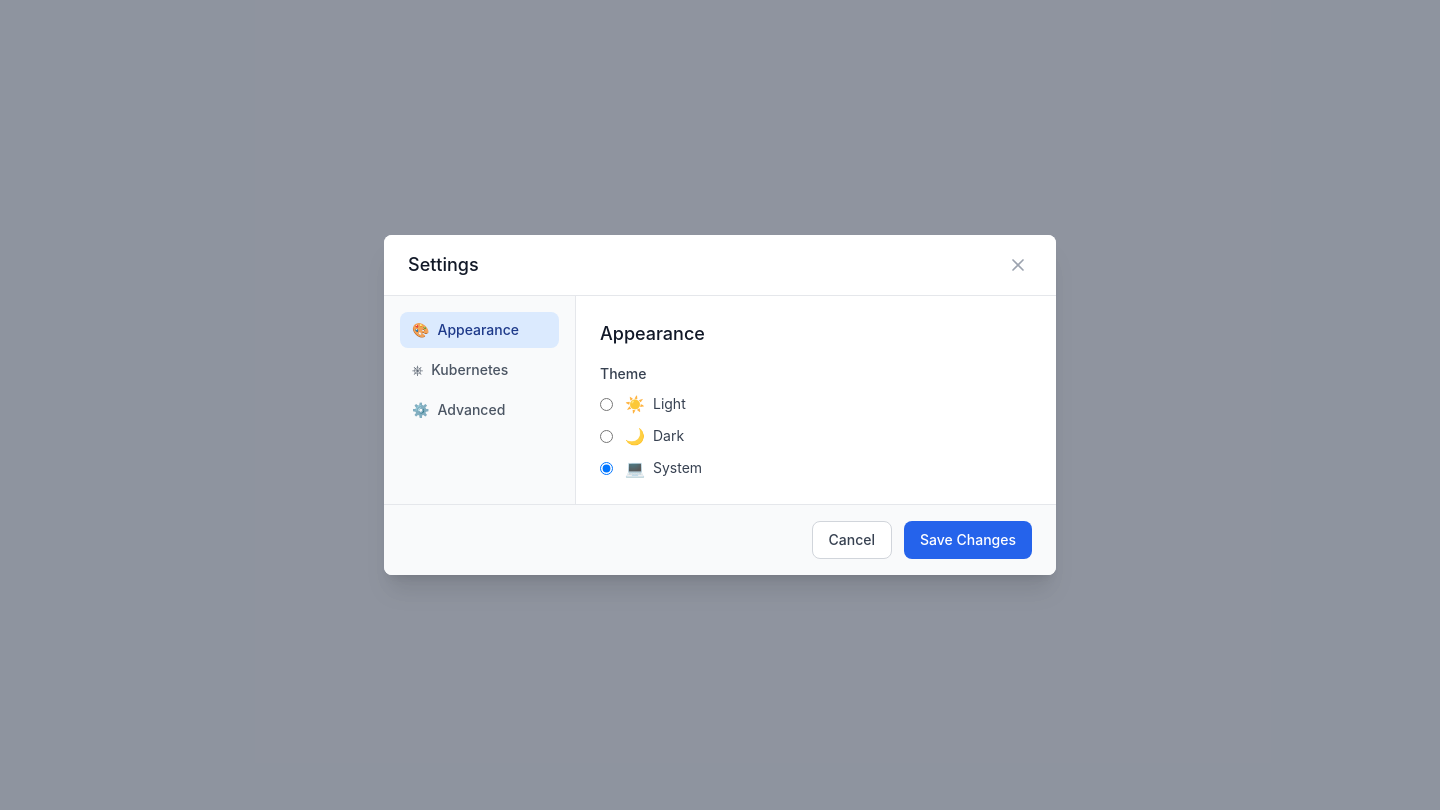
Test: SettingsDialog › tabSwitching › should switch to Advanced tab when clicked
The width and height of the screenshot is (1440, 810).
Click the button "⚙️ Advanced". click: [480, 410]
box: 400,392 -> 559,428
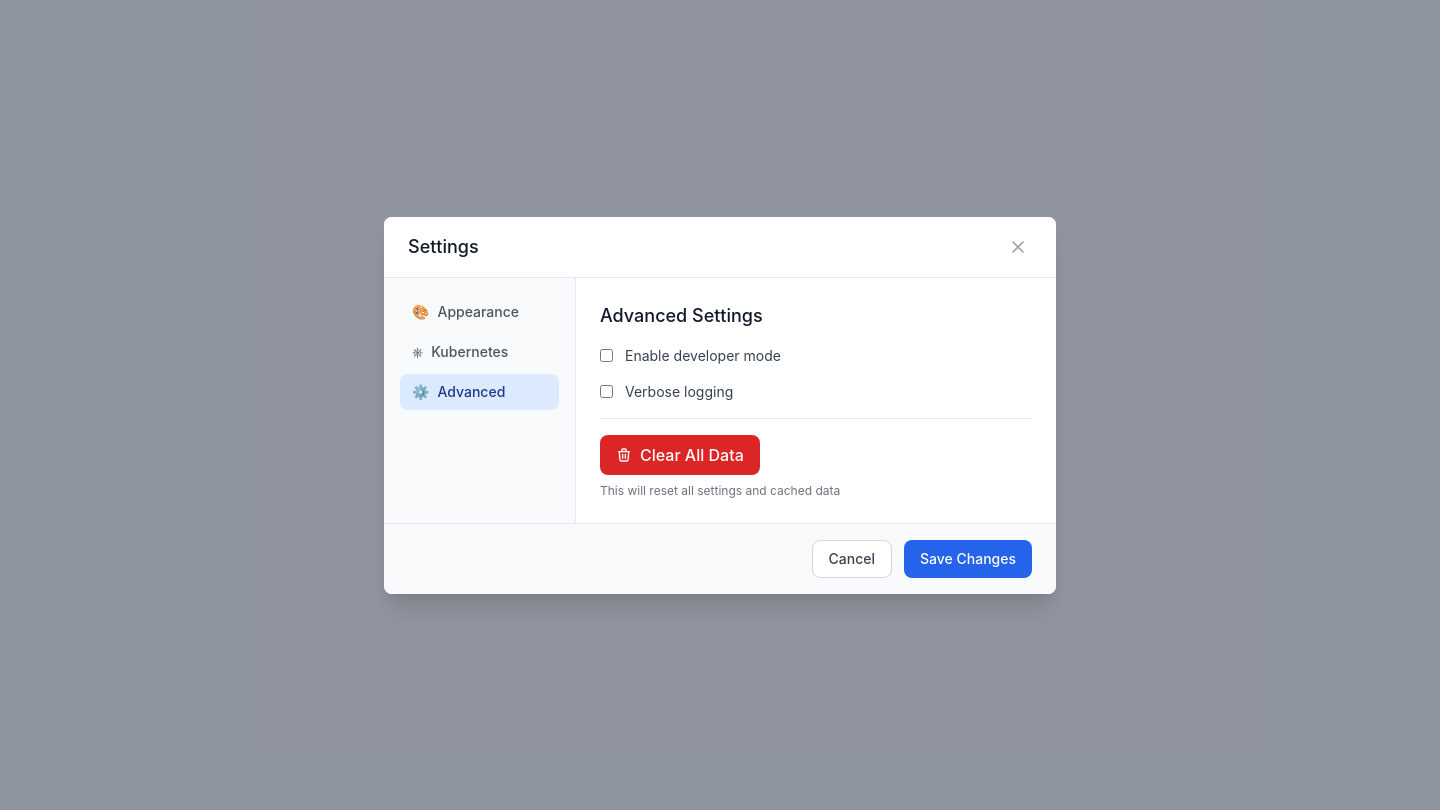
Expected: the heading "Advanced Settings" is shown, 600,304 -> 763,326
Expected: the text "Enable developer mode" is shown, 625,346 -> 781,366
